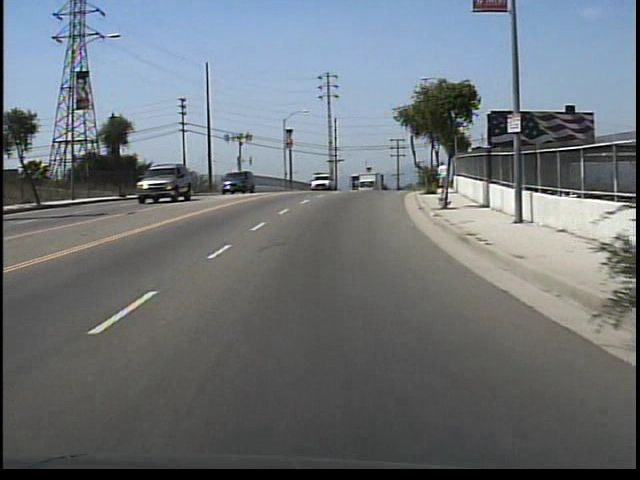person: (439, 159, 447, 194)
